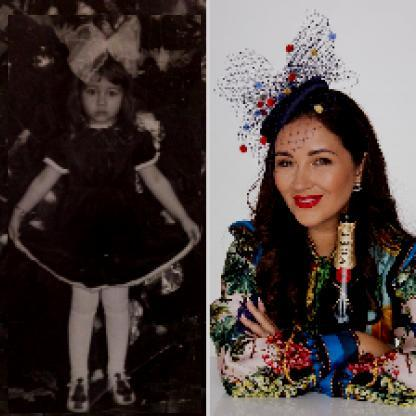child: (9, 16, 204, 415)
